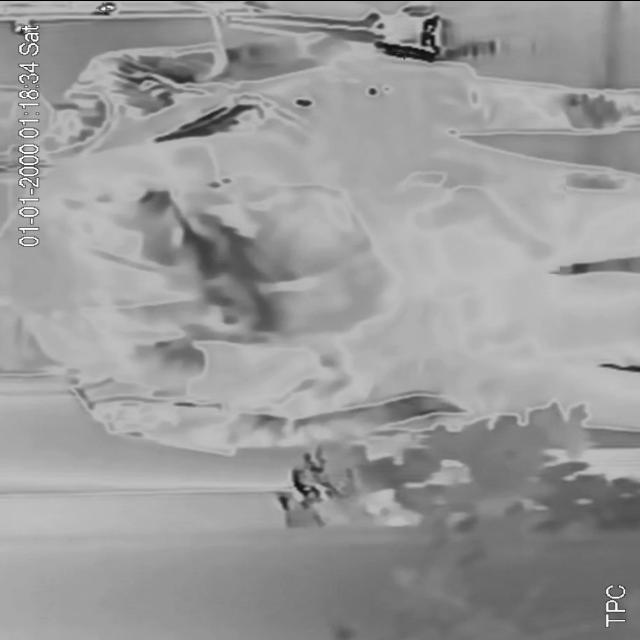Weapon: (402, 167, 564, 270)
